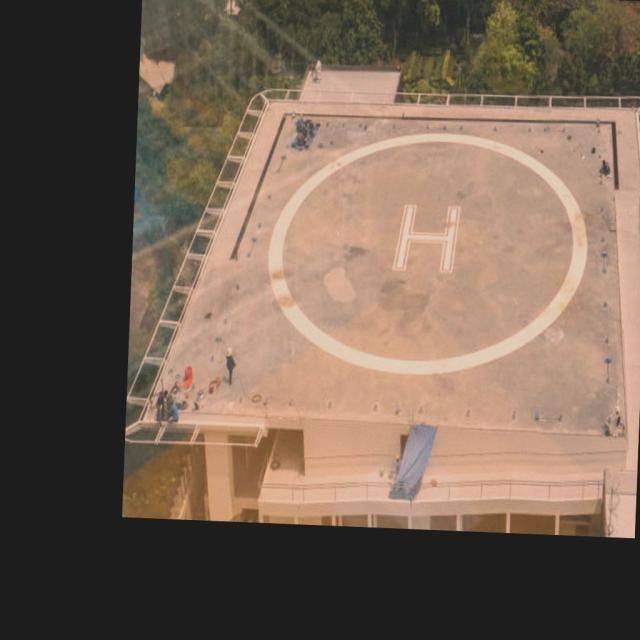helipad: (262, 124, 594, 379)
